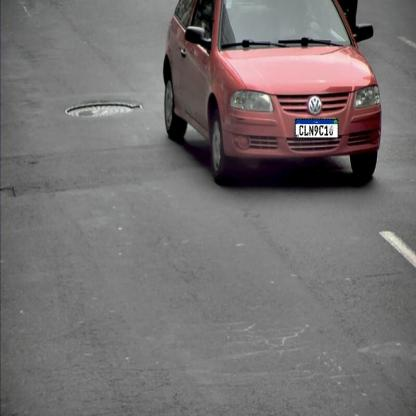PlacaM: (295, 118, 338, 139)
